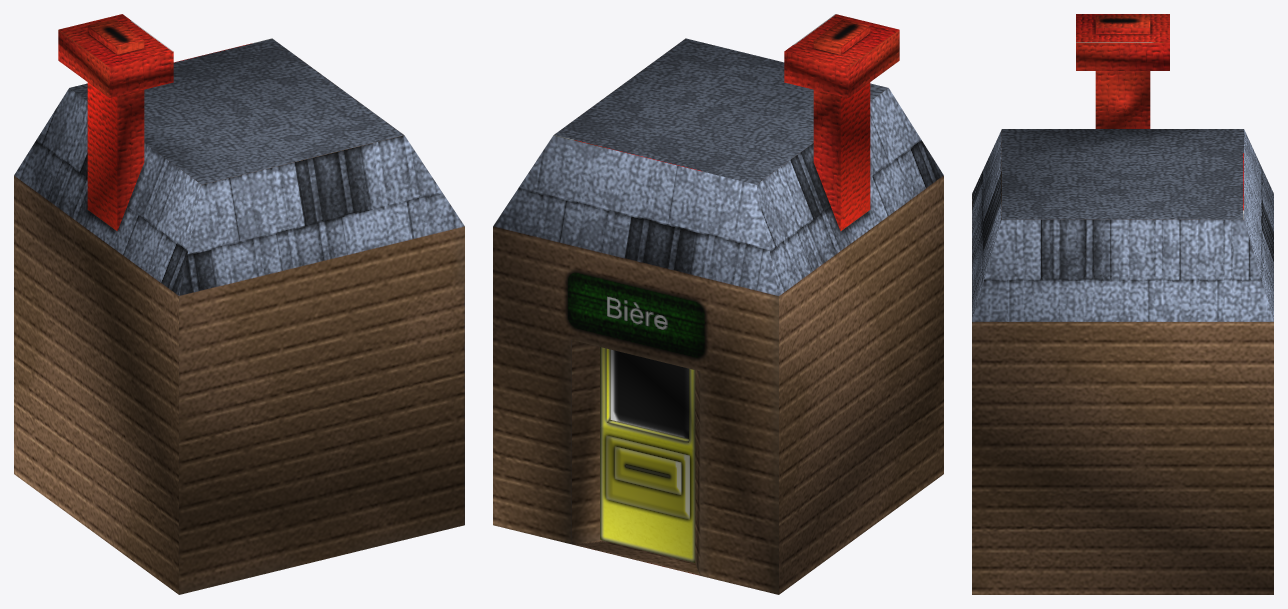
Rendered from building_17.obj.
3 views of the same model, side by side, from view 1: azimuth 30°, elevation 25°; view 2: azimuth 150°, elevation 25°; view 3: azimuth 270°, elevation 25° (orthographic). The views are drawn at different scales.
Parts seen in each view (by area): view 1: Cube3_copy13_Cube3_copy13_auv; view 2: Cube3_copy13_Cube3_copy13_auv; view 3: Cube3_copy13_Cube3_copy13_auv.
Boxes of the visible parts, bbox=[...] form: Cube3_copy13_Cube3_copy13_auv: bbox=[14, 14, 464, 594]; Cube3_copy13_Cube3_copy13_auv: bbox=[493, 14, 943, 594]; Cube3_copy13_Cube3_copy13_auv: bbox=[972, 14, 1273, 594].
Bounding box in the file's own units: 286 × 455 × 274.
